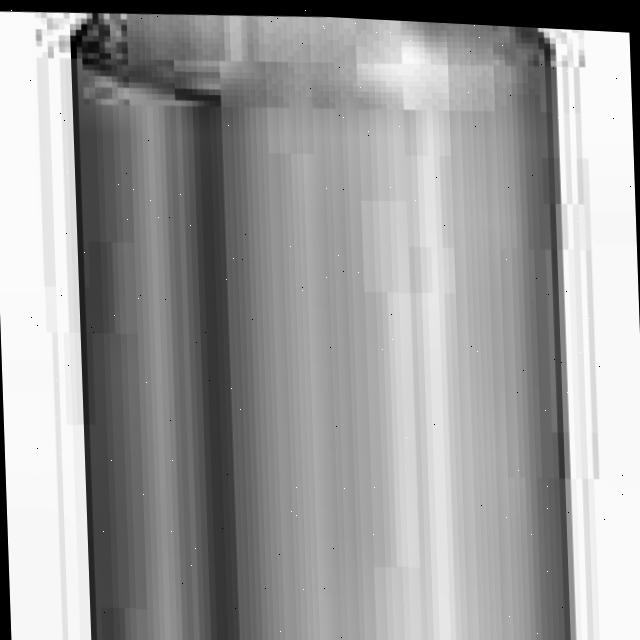metal: (29, 1, 611, 640)
